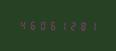eight: (77, 20, 86, 31)
four: (17, 19, 26, 30)
one: (57, 19, 66, 31), (87, 20, 96, 31)
six: (27, 19, 36, 30), (47, 19, 56, 30)
two: (67, 20, 76, 31)
zero: (37, 19, 46, 30)
